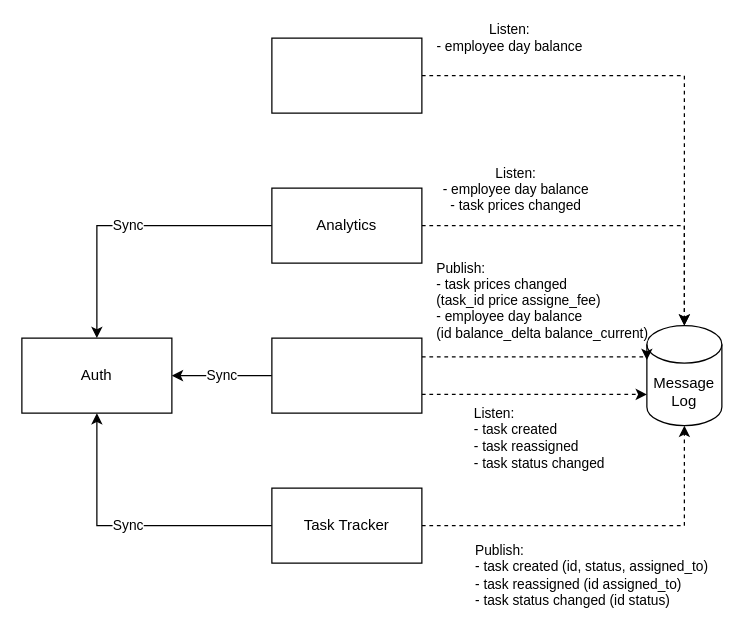
The diagram is 744 pixels wide and 630 high, and some of its shapes have lost their labels. The box of each missing label's shape, as (x1, y1, x2, y2) in pixels:
Accounting: (271, 337, 422, 413)
Email: (271, 37, 422, 113)
